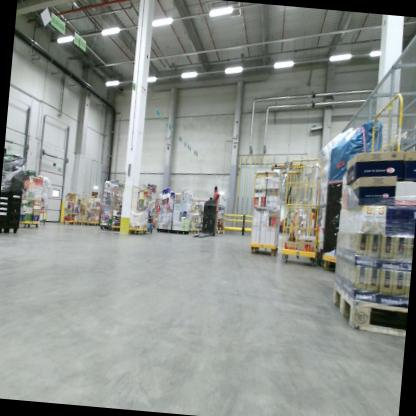pallet: (328, 278, 410, 344)
pallet_truck: (191, 191, 223, 243)
